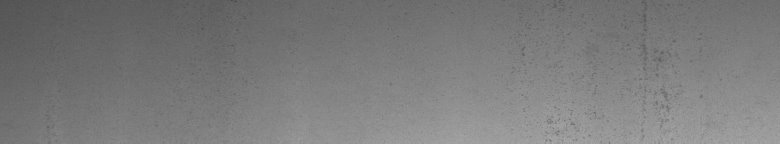ib: (521, 4, 680, 135)
